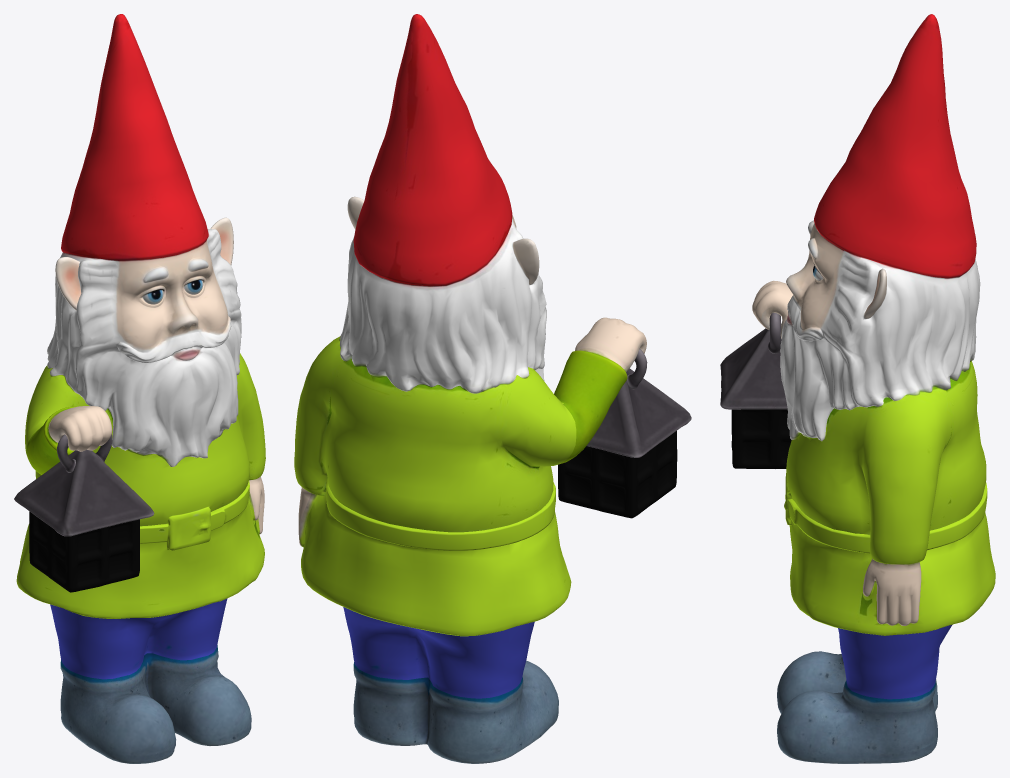
Rendered from garden_gnome_1k.glb.
3 renders of one model, left to right at view 1: azimuth 30°, elevation 25°; view 2: azimuth 150°, elevation 25°; view 3: azimuth 270°, elevation 25°, orthographic. The views are drawn at different scales.
Parts seen in each view (by area): view 1: garden_gnome; view 2: garden_gnome; view 3: garden_gnome.
Part boxes in pixels (bbox=[...]): garden_gnome: bbox=[14, 14, 265, 763]; garden_gnome: bbox=[294, 14, 691, 763]; garden_gnome: bbox=[720, 14, 995, 763].
Bounding box in the file's own units: 0.2579 × 0.5991 × 0.2097.
1 material, 1 textured.
